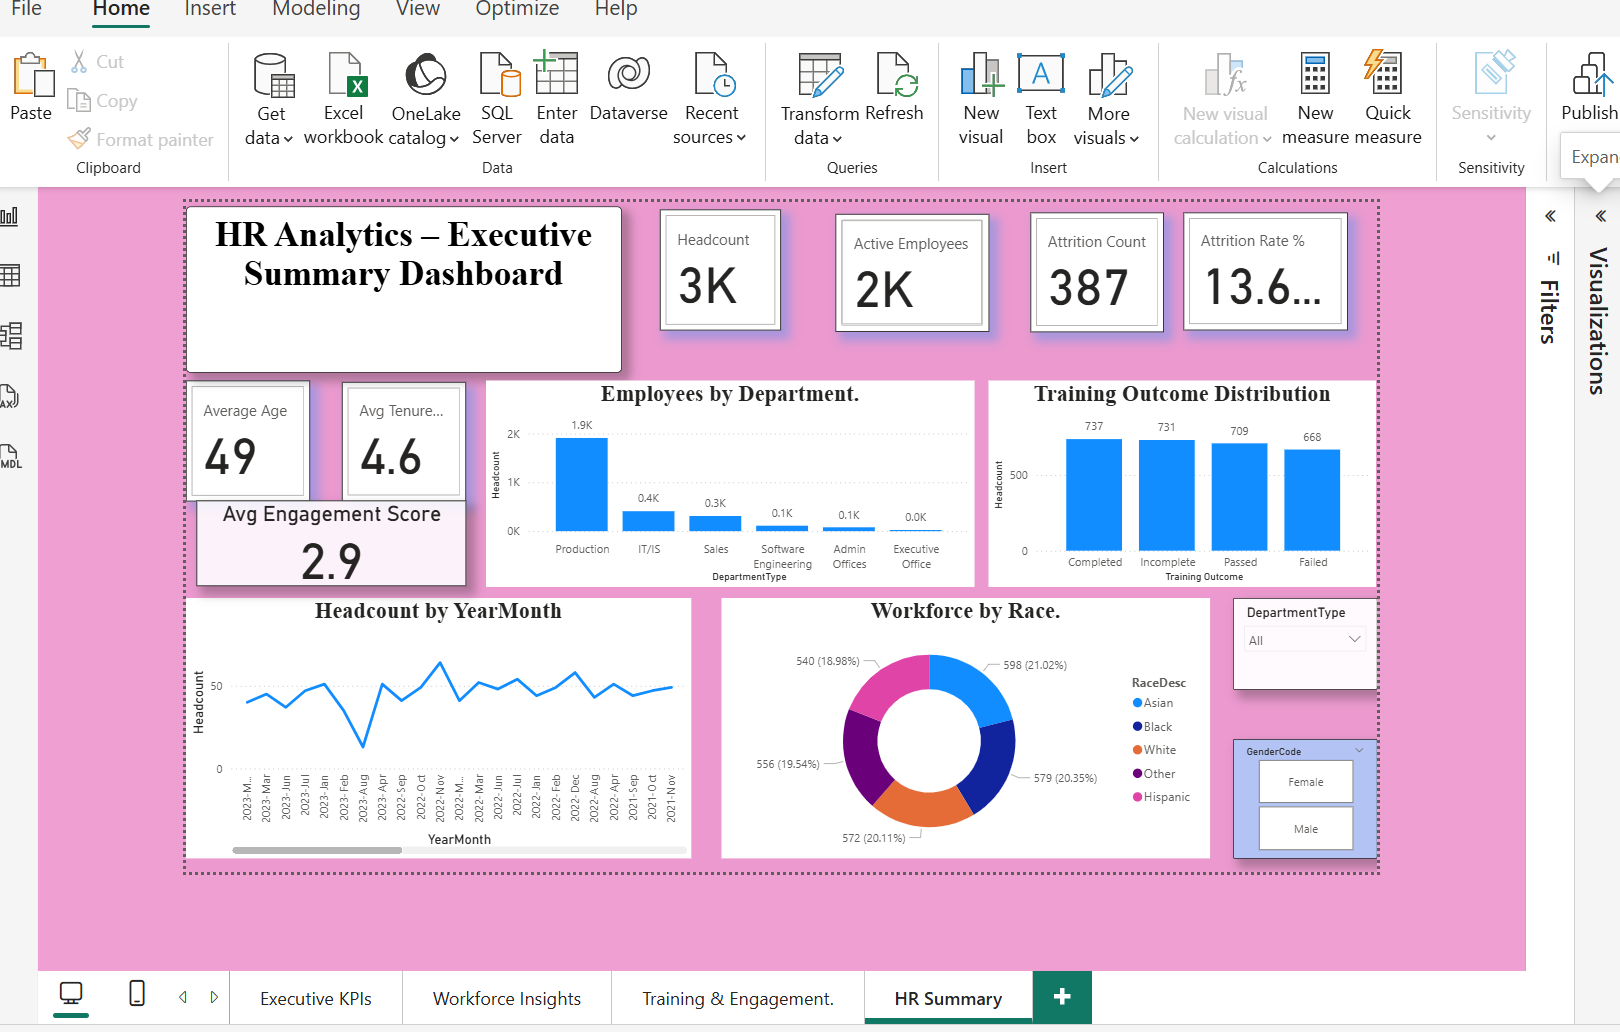

This screenshot's page, from the dashboard's own definition file:
{"tool":"powerbi","page":{"name":"HR Summary","canvas":[1280,720],"ordinal":3},"visuals":[{"type":"cardVisual","fields":{"Data":["HR_Data_Analysis.Headcount"]},"box":[510,8.3,130,130],"z":0},{"type":"cardVisual","fields":{"Data":["HR_Data_Analysis.Active Employees"]},"box":[698.3,13.3,165,126.7],"z":1},{"type":"cardVisual","fields":{"Data":["HR_Data_Analysis.Attrition Count"]},"box":[908.3,11.7,143.3,128.3],"z":2},{"type":"cardVisual","fields":{"Data":["HR_Data_Analysis.Attrition Rate %"]},"box":[1073.3,11.7,176.7,126.7],"z":3},{"type":"cardVisual","fields":{"Data":["HR_Data_Analysis.Average Age"]},"box":[0,191.7,133.3,130],"z":4},{"type":"cardVisual","fields":{"Data":["HR_Data_Analysis.Avg Tenure (Years)"]},"box":[168.3,193.3,133.3,128.3],"z":5},{"type":"textbox","box":[0,5,468.3,178.3],"z":6},{"type":"lineChart","fields":{"Category":["DimDate.YearMonth"],"Y":["HR_Data_Analysis.Headcount"]},"box":[0,425,543.3,280],"z":7},{"type":"clusteredColumnChart","title":"Employees by Department.","fields":{"Category":["HR_Data_Analysis.DepartmentType"],"Y":["HR_Data_Analysis.Headcount"]},"box":[323.3,191.7,525,221.7],"z":8},{"type":"donutChart","title":"Workforce by Race.","fields":{"Category":["HR_Data_Analysis.RaceDesc"],"Y":["HR_Data_Analysis.Headcount"]},"box":[575,425,525,280],"z":9},{"type":"card","title":"Avg Engagement Score","fields":{"Values":["HR_Data_Analysis.Avg Engagement Score"]},"box":[11.7,321.7,290,91.7],"z":10},{"type":"clusteredColumnChart","title":"Training Outcome Distribution","fields":{"Category":["HR_Data_Analysis.Training Outcome"],"Y":["HR_Data_Analysis.Headcount"]},"box":[863.3,191.7,416.7,221.7],"z":11},{"type":"slicer","fields":{"Values":["HR_Data_Analysis.DepartmentType"]},"box":[1125,425,155,98.3],"z":12},{"type":"slicer","fields":{"Values":["HR_Data_Analysis.GenderCode"]},"box":[1125,576.7,155,128.3],"z":13}]}

Visuals, with their boxes on the page's 1280x720 design canvas (x1, y1, x2, y2). These are canvas units, not pixel positions in the 1620x1032 screenshot, which may show the page scaled, cropped or inside an application window:
cardVisual - HR_Data_Analysis.Headcount: <region>510, 8, 640, 138</region>
cardVisual - HR_Data_Analysis.Active Employees: <region>698, 13, 863, 140</region>
cardVisual - HR_Data_Analysis.Attrition Count: <region>908, 12, 1052, 140</region>
cardVisual - HR_Data_Analysis.Attrition Rate %: <region>1073, 12, 1250, 138</region>
cardVisual - HR_Data_Analysis.Average Age: <region>0, 192, 133, 322</region>
cardVisual - HR_Data_Analysis.Avg Tenure (Years): <region>168, 193, 302, 322</region>
textbox: <region>0, 5, 468, 183</region>
lineChart - DimDate.YearMonth x HR_Data_Analysis.Headcount: <region>0, 425, 543, 705</region>
"Employees by Department." clusteredColumnChart: <region>323, 192, 848, 413</region>
"Workforce by Race." donutChart: <region>575, 425, 1100, 705</region>
"Avg Engagement Score" card: <region>12, 322, 302, 413</region>
"Training Outcome Distribution" clusteredColumnChart: <region>863, 192, 1280, 413</region>
slicer - HR_Data_Analysis.DepartmentType: <region>1125, 425, 1280, 523</region>
slicer - HR_Data_Analysis.GenderCode: <region>1125, 577, 1280, 705</region>
